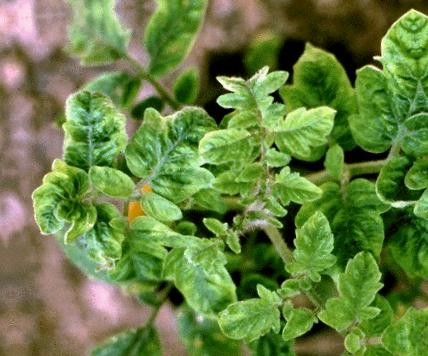Tomato leaf yellow virus: (104, 92, 219, 207), (348, 0, 427, 163), (33, 78, 138, 184), (310, 243, 390, 339), (164, 245, 239, 326), (258, 92, 340, 164), (208, 281, 292, 347), (187, 116, 266, 177), (381, 196, 428, 294)
